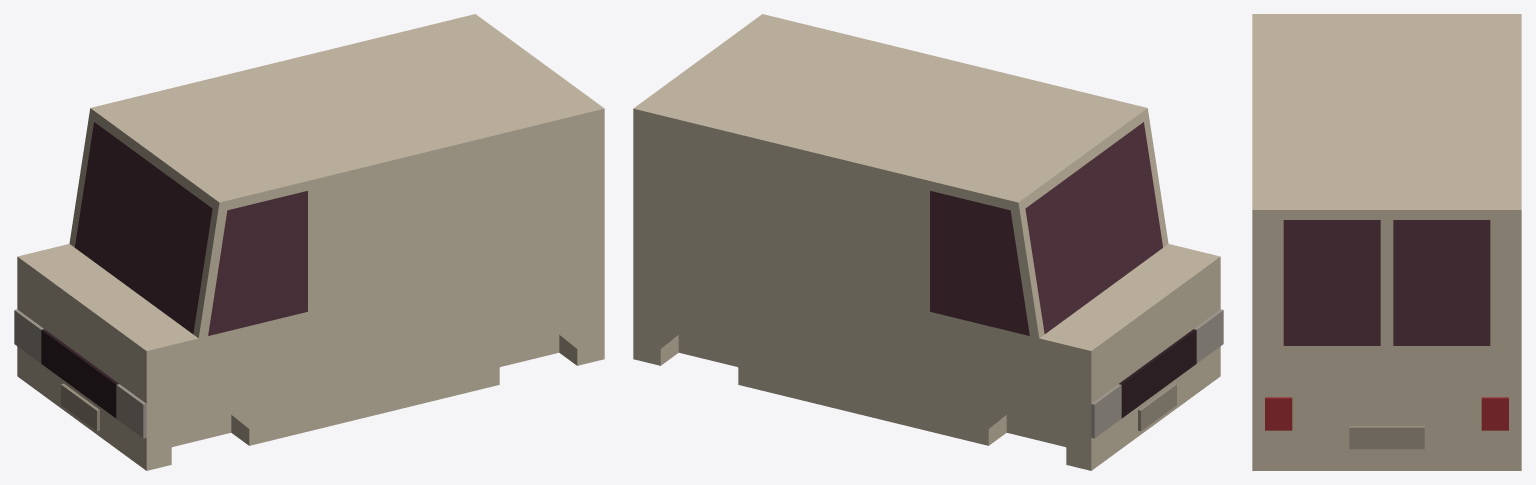
The model's file is Van_White.fbx.
The picture shows the model from 3 angles, left to right: view 1: azimuth 30°, elevation 25°; view 2: azimuth 150°, elevation 25°; view 3: azimuth 270°, elevation 25°; orthographic projection. The views are drawn at different scales.
Parts seen in each view (by area): view 1: Van_White, Van_Lights; view 2: Van_White, Van_Lights; view 3: Van_White, Van_Lights.
Boxes of the visible parts, x1,y1,x2,y2 form: Van_White: (17,14,604,470); Van_Lights: (14,309,146,438); Van_White: (633,14,1220,470); Van_Lights: (1091,309,1223,438); Van_White: (1252,14,1521,470); Van_Lights: (1265,397,1508,430).
Size of the model in its own units: 4.46 by 2.3 by 2.15.
